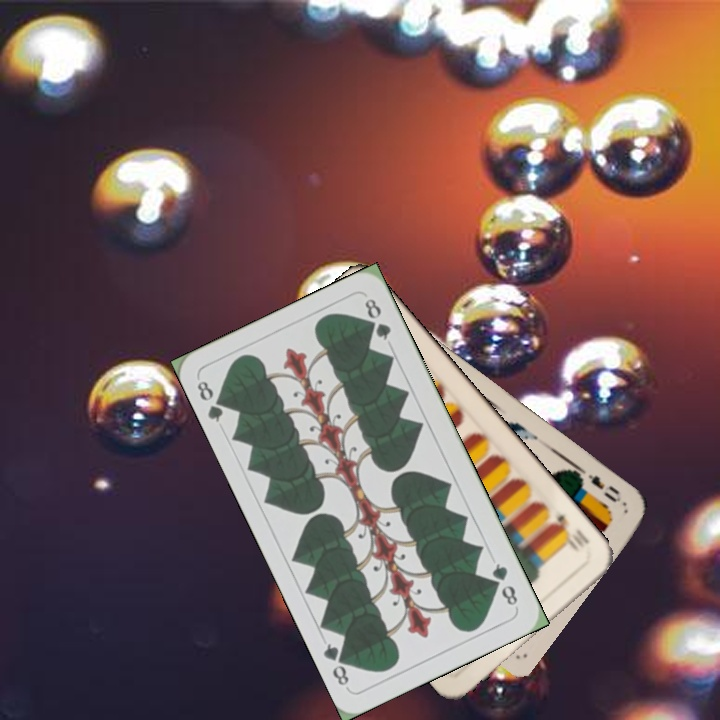E10: (547, 510, 592, 554)
EO: (575, 470, 624, 506)
G8: (192, 376, 231, 425), (488, 559, 520, 611)
